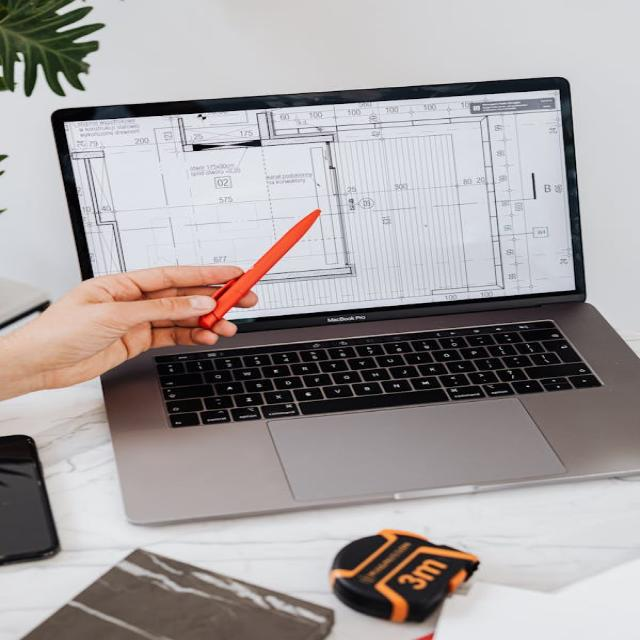pen: (185, 194, 346, 347)
